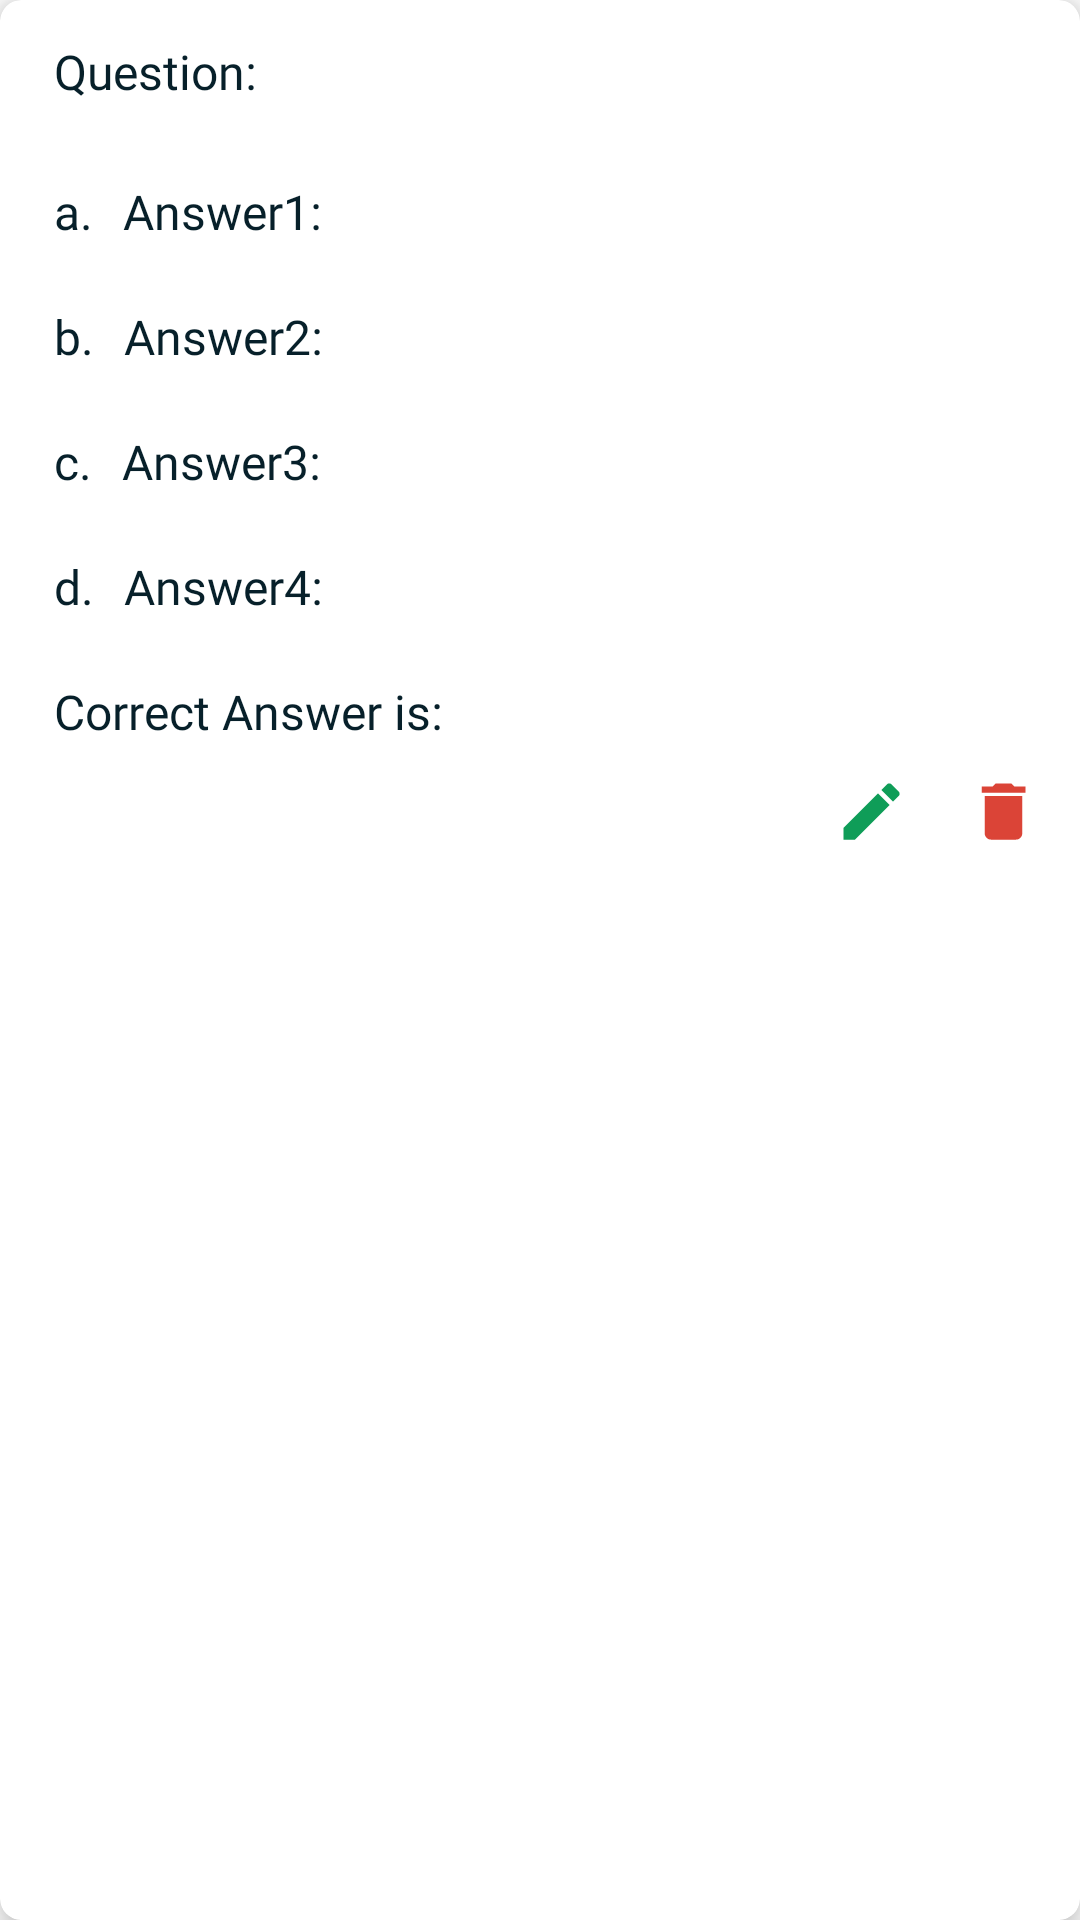

Icon click points for this 1080 x 1920 phone screenshot, format point (x, y):
delete: point (1003, 811)
edit: point (871, 811)
